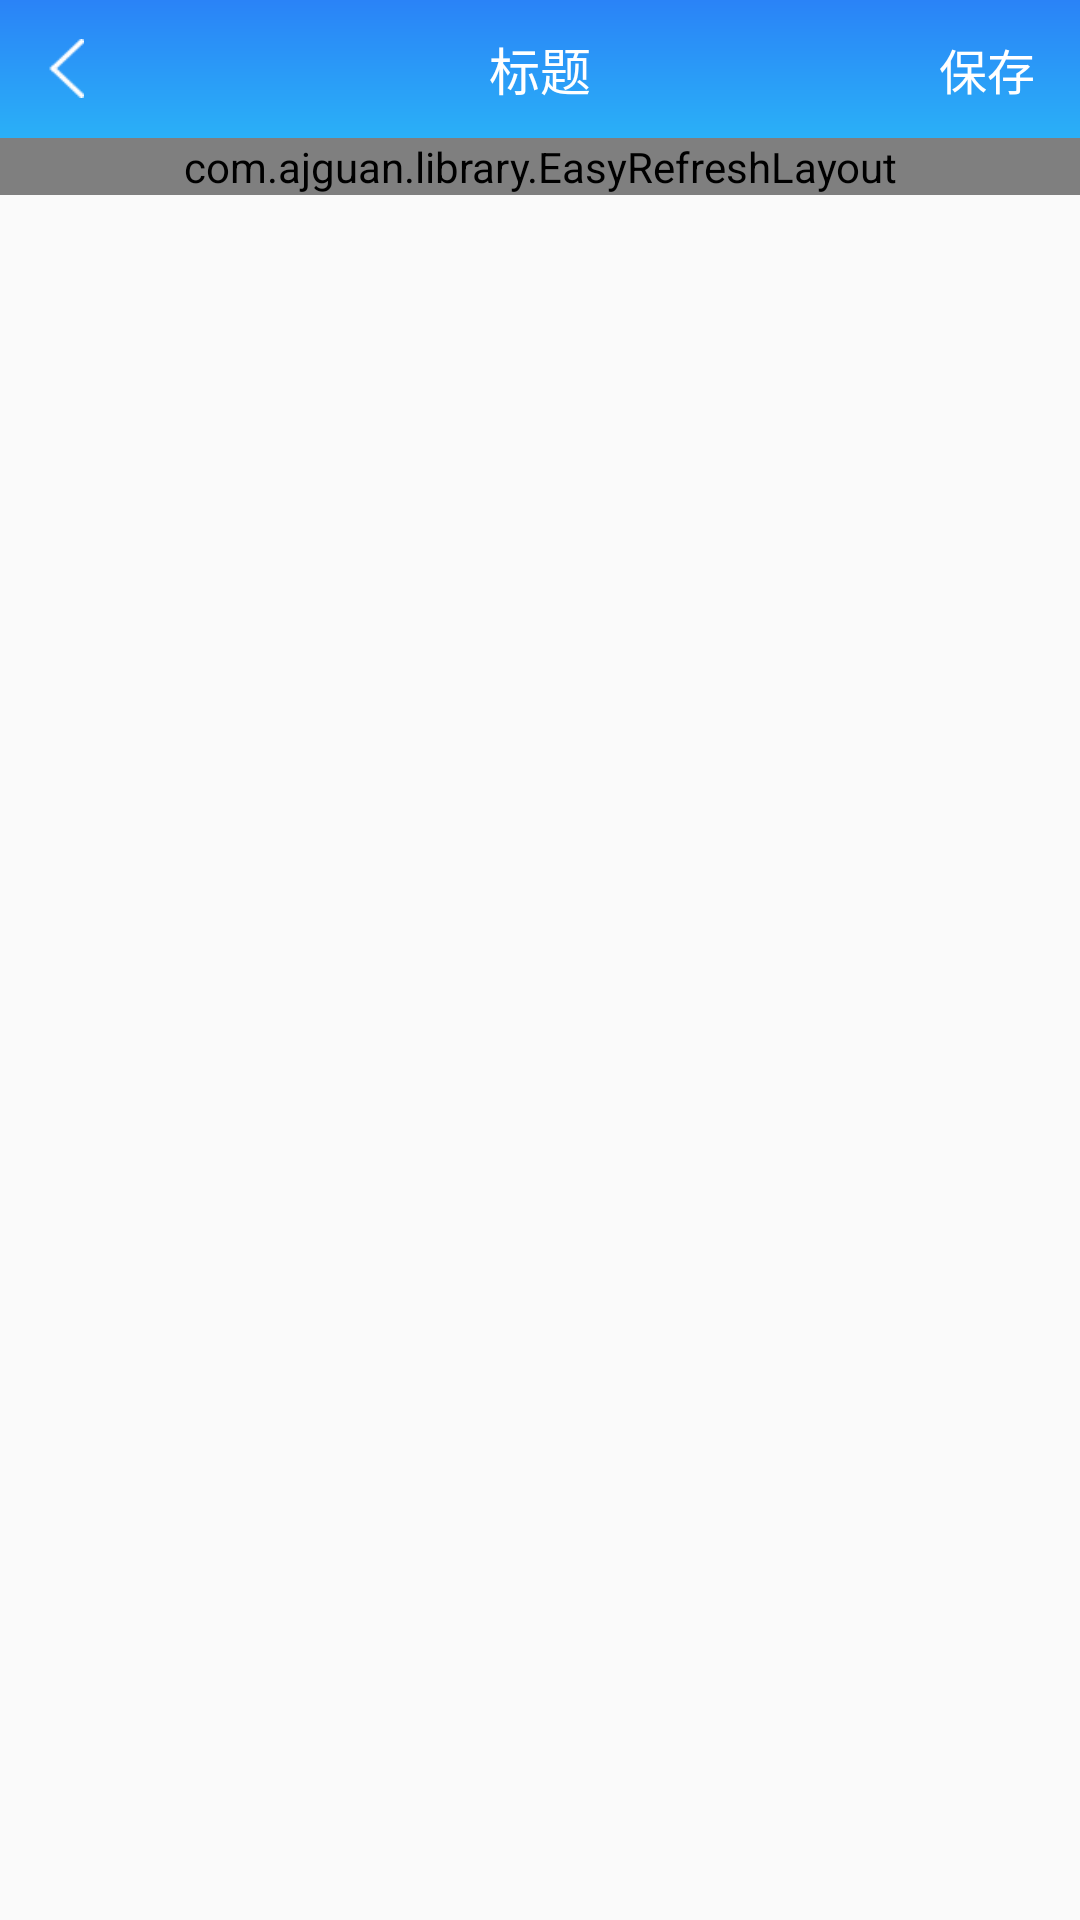

Named icons in this screenshot (1080w x 1920h) and their centers, (x,y):
back: (57,68)
